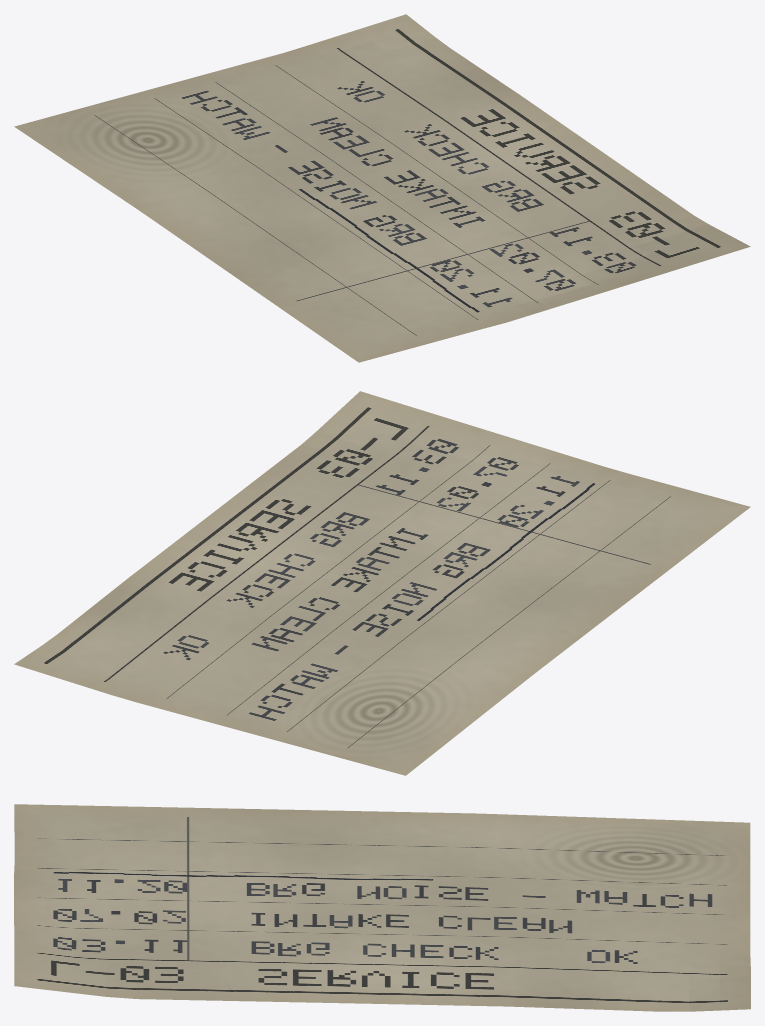
File: UNIT07_FK_CoverLabel.fbx
The picture shows the model from 3 angles, top to bottom: view 1: azimuth 30°, elevation 25°; view 2: azimuth 150°, elevation 25°; view 3: azimuth 270°, elevation 25°; orthographic projection. The views are drawn at different scales.
Parts seen in each view (by area): view 1: UNIT07_FK_CoverInnerLabel_L; view 2: UNIT07_FK_CoverInnerLabel_L; view 3: UNIT07_FK_CoverInnerLabel_L.
Boxes of the visible parts, bbox=[...] form: UNIT07_FK_CoverInnerLabel_L: bbox=[14, 14, 750, 362]; UNIT07_FK_CoverInnerLabel_L: bbox=[14, 391, 750, 775]; UNIT07_FK_CoverInnerLabel_L: bbox=[14, 804, 750, 1011].
Bounding box in the file's own units: 0.0303 × 0.00275 × 0.0461.
